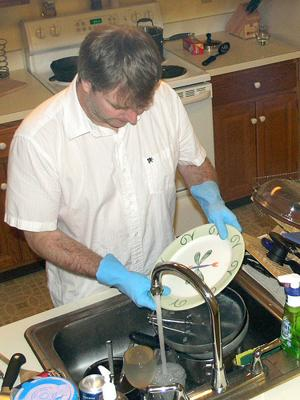person: (5, 23, 244, 309)
